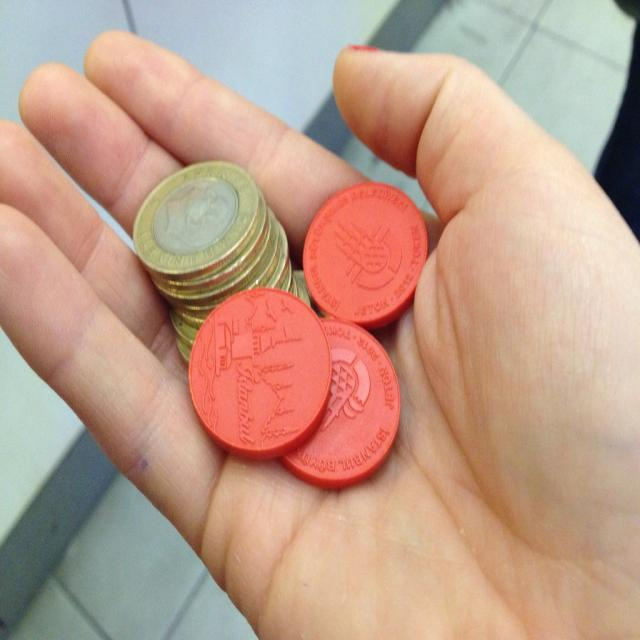Coin: (186, 284, 335, 460), (163, 208, 312, 367), (274, 316, 404, 491), (303, 180, 430, 335), (131, 156, 257, 281), (149, 189, 268, 293), (149, 213, 272, 306)
